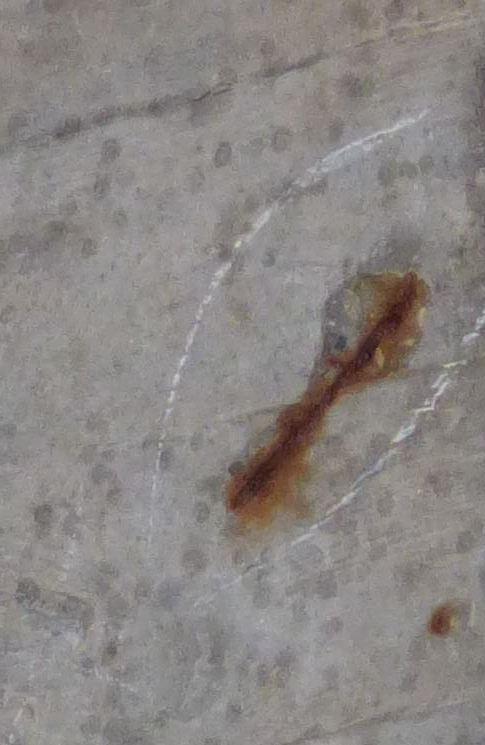Corrosion: (427, 602, 455, 637)
Exposed reinforcement: (227, 283, 417, 511)
Spalling: (320, 265, 431, 396)
